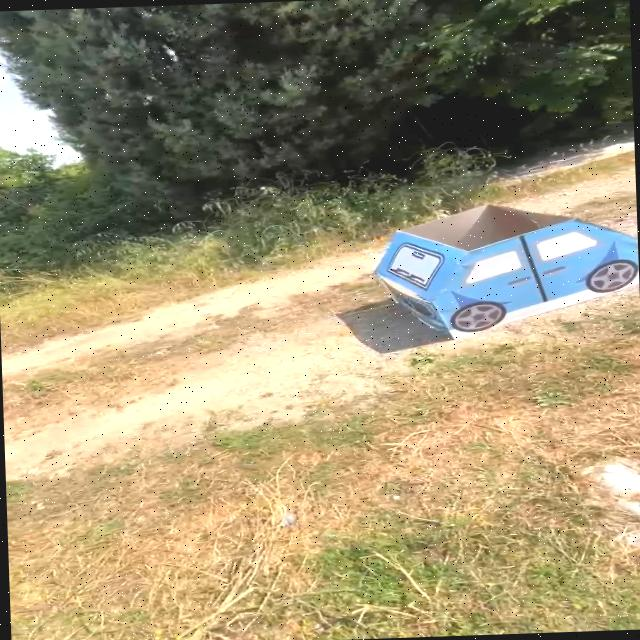blue_car: (341, 184, 640, 356)
